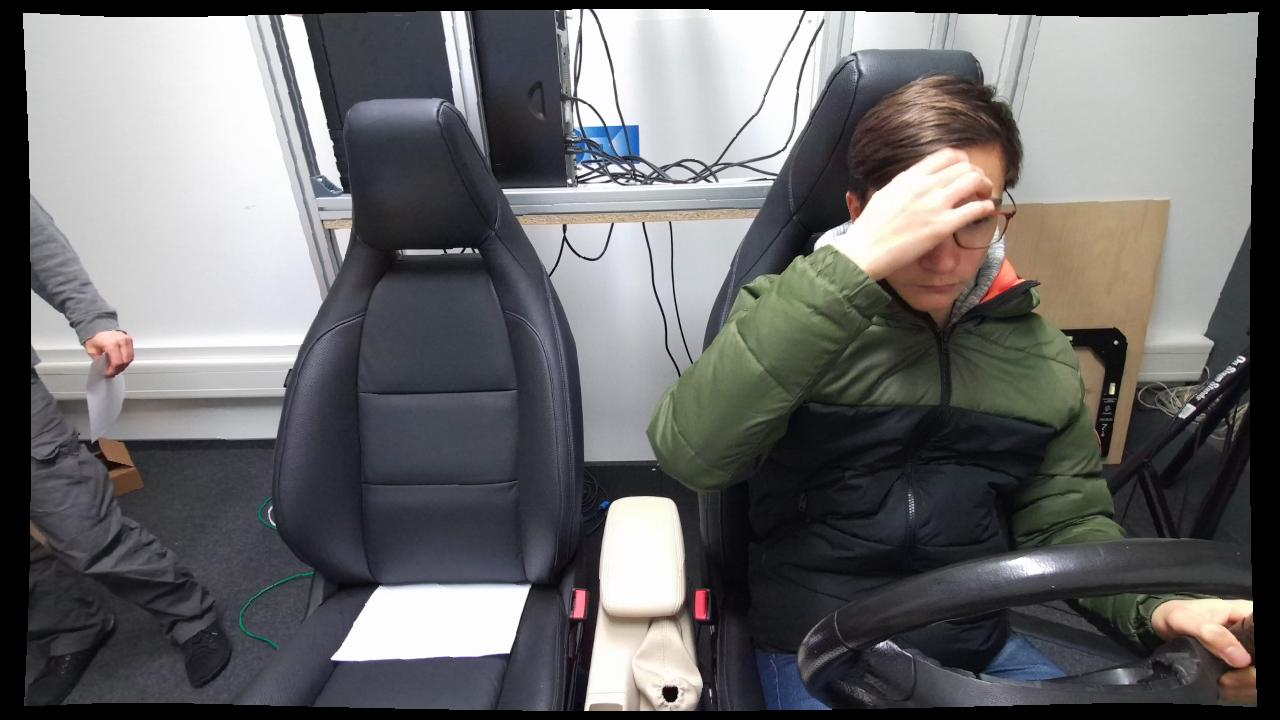Distracted: (643, 71, 1101, 712)
